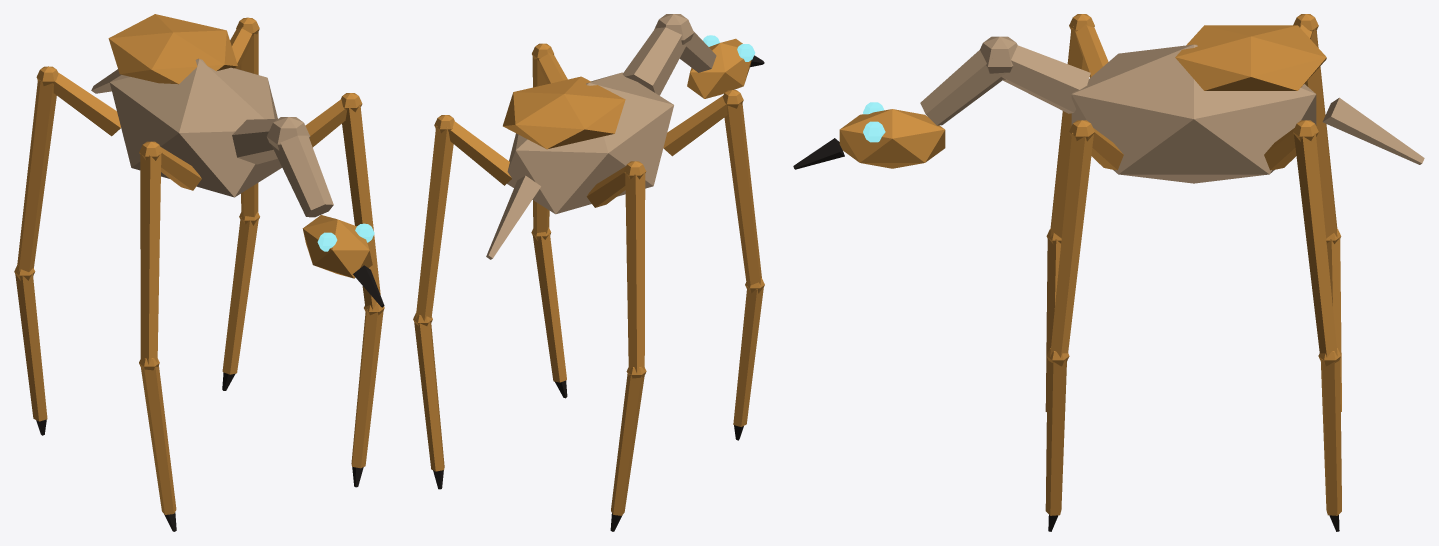
File: exo-wild-stilt.glb
3 views of the same model, side by side, from view 1: azimuth 30°, elevation 25°; view 2: azimuth 150°, elevation 25°; view 3: azimuth 270°, elevation 25° (orthographic). The views are drawn at different scales.
Visible parts, largest first — view 1: body; view 2: body; view 3: body.
Part boxes in pixels (<box>): body: <box>14,14,384,531</box>; body: <box>413,14,764,531</box>; body: <box>793,14,1424,531</box>.
Size of the model in its own units: 1.33 by 2.16 by 2.77.
